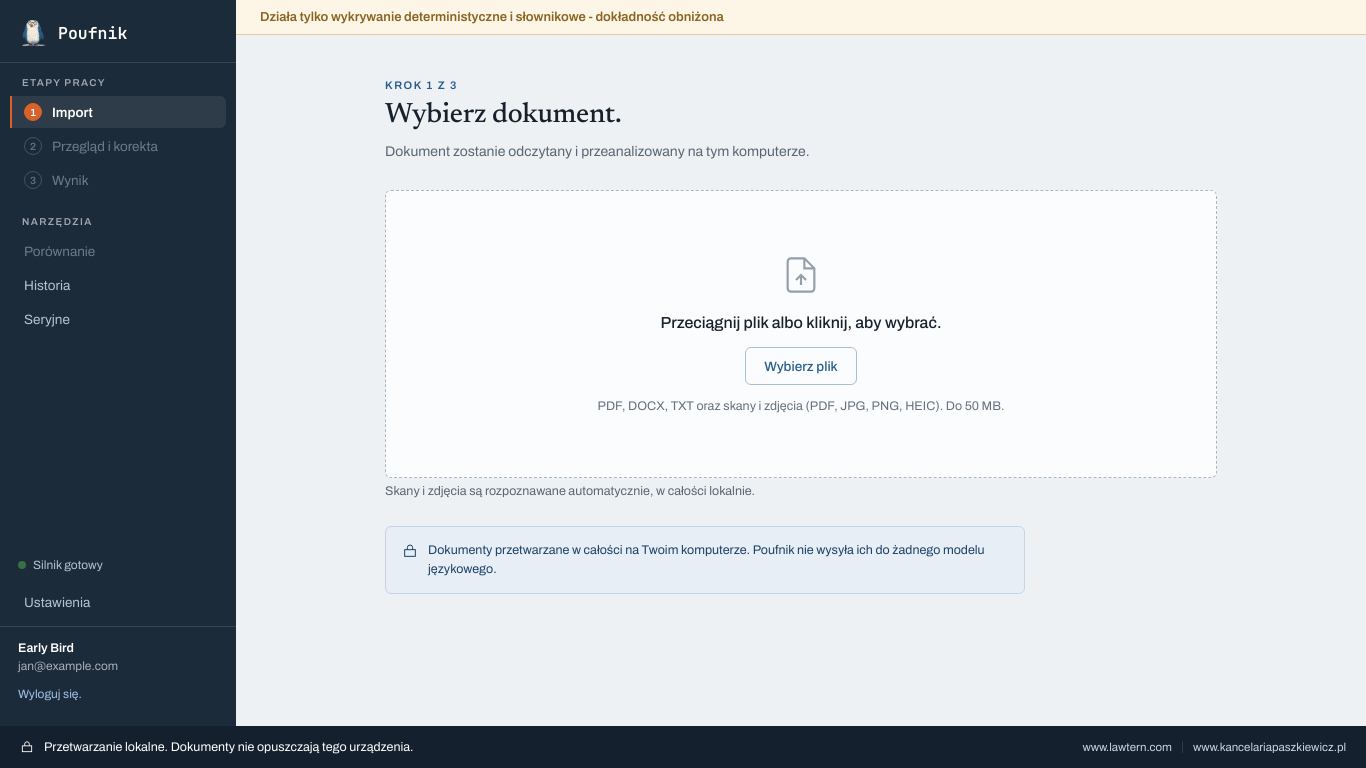
Scenario: App engine health › shows the batch panel for Early Bird sessions
Click the button "Seryjne" at (118, 319), box [10, 303, 226, 335]
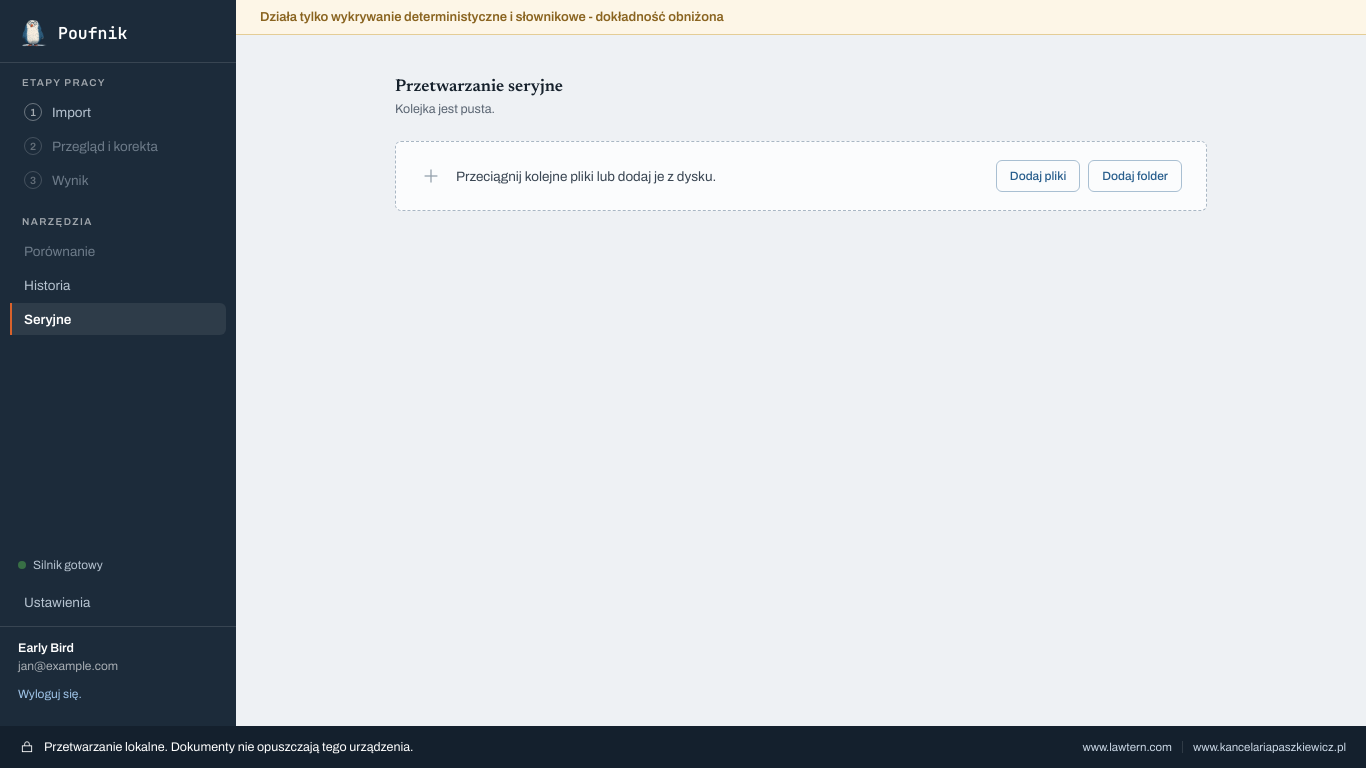
Now the heading "Przetwarzanie seryjne" is shown, box [395, 79, 563, 96]
Now the text "Kolejka jest pusta." is shown, box [395, 102, 495, 116]
